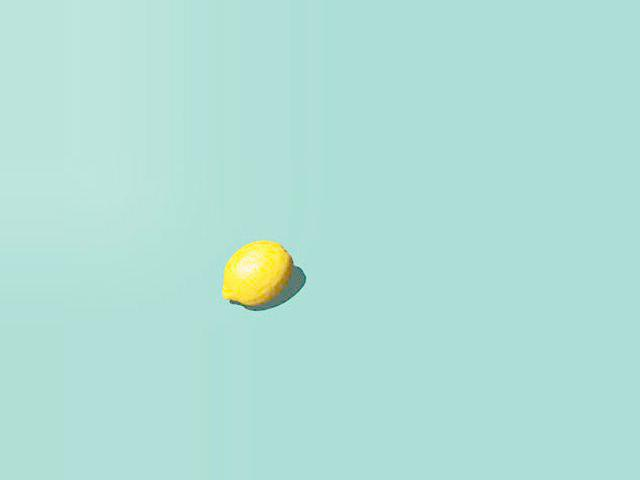lemon: (210, 226, 313, 318)
